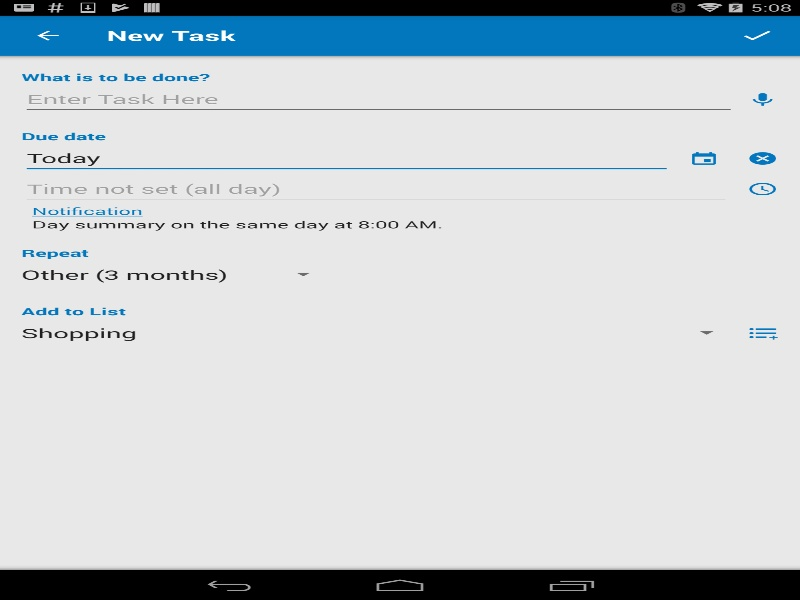Button: (10, 15, 85, 55)
Input: (21, 173, 730, 204), (21, 84, 736, 114), (21, 143, 672, 173)
